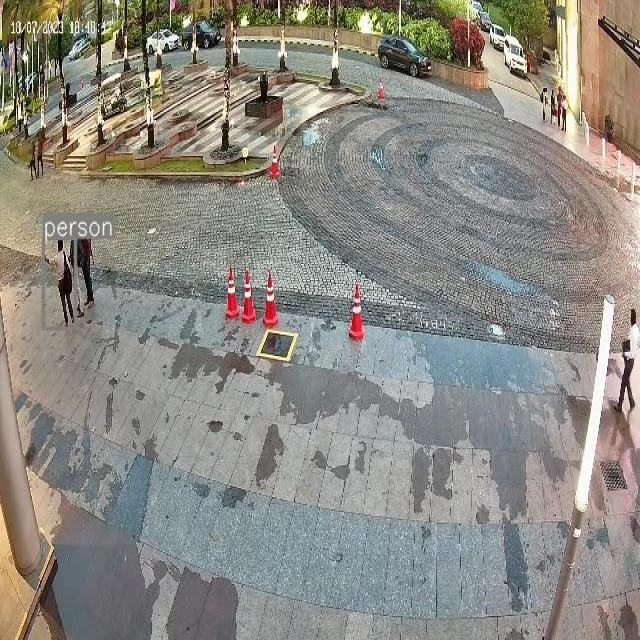person: (45, 237, 75, 335), (78, 236, 100, 313), (36, 132, 49, 177), (559, 96, 571, 136), (27, 137, 37, 183), (540, 87, 549, 124)
